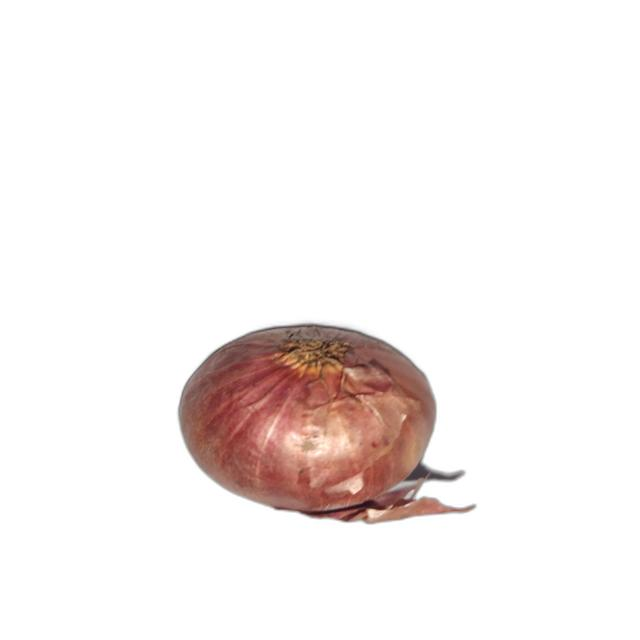onion: (176, 323, 478, 525)
